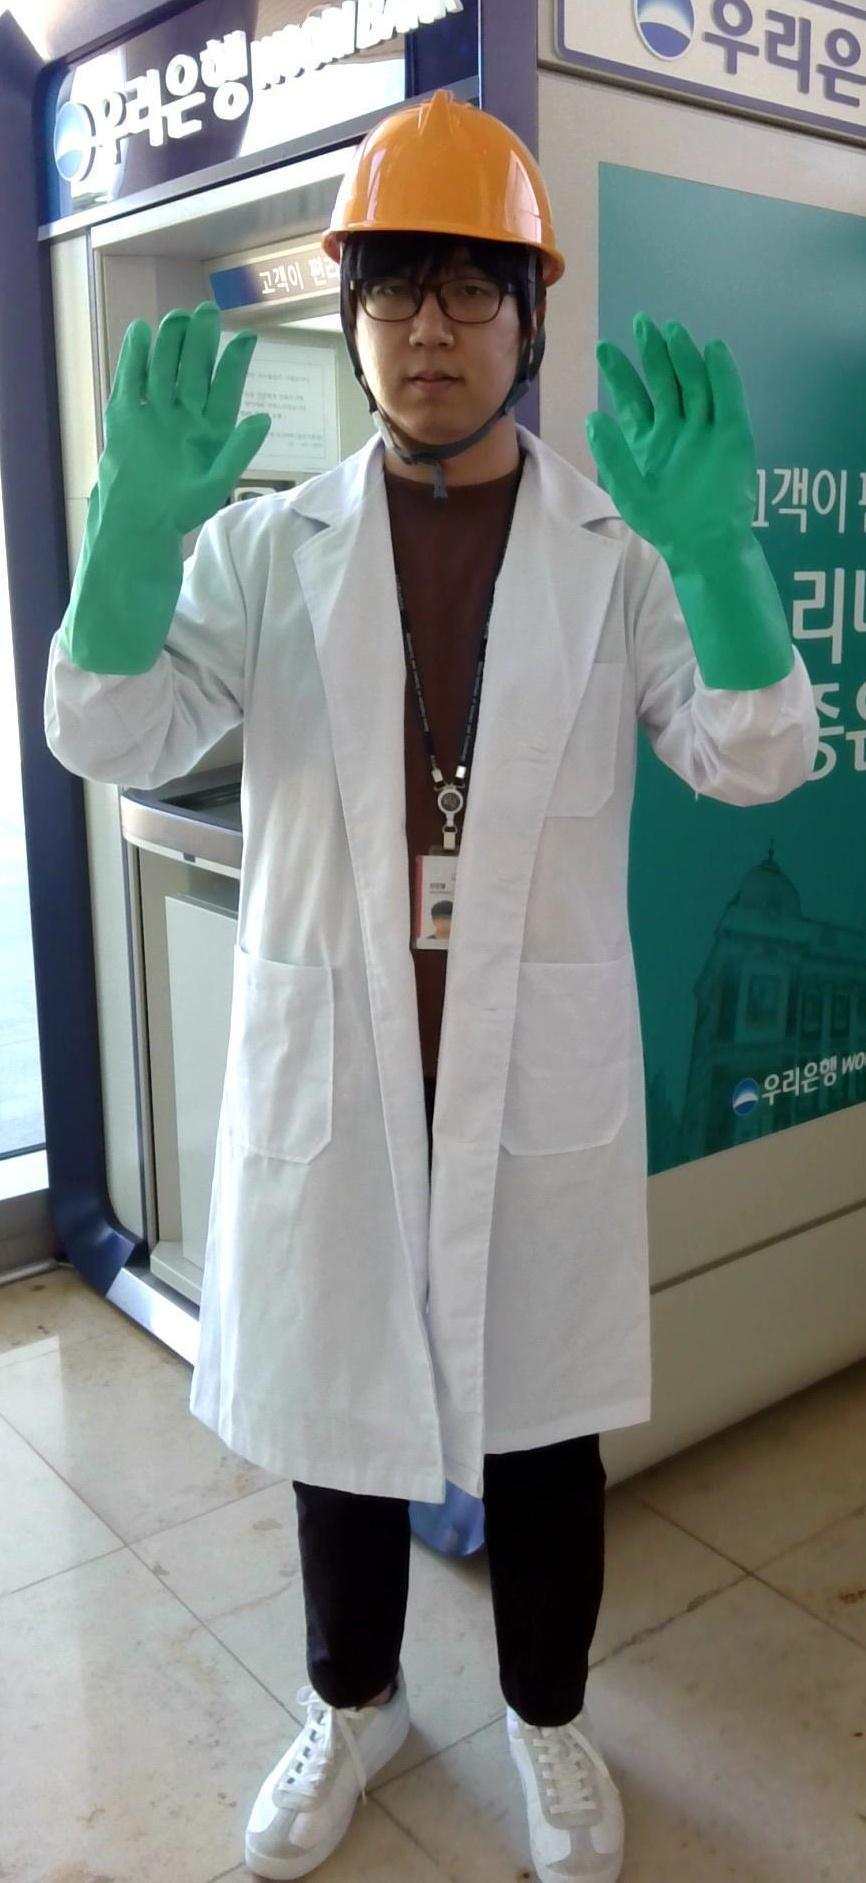lab_coat: (184, 524, 661, 1473)
